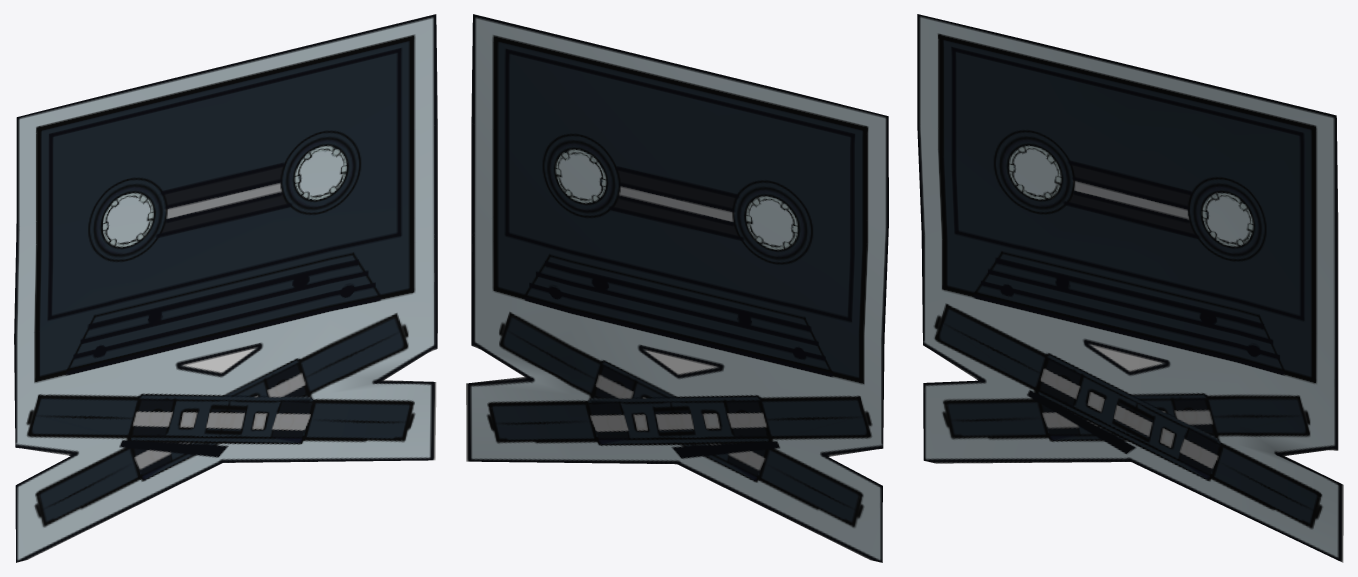
File: Me-Sticker.FBX
3 views of the same model, side by side, from view 1: azimuth 30°, elevation 25°; view 2: azimuth 150°, elevation 25°; view 3: azimuth 330°, elevation 25° (orthographic).
Parts seen in each view (by area): view 1: Plane003; view 2: Plane003; view 3: Plane003.
Boxes of the visible parts, x1,y1,x2,y2 form: Plane003: (14,14,437,562); Plane003: (466,14,888,562); Plane003: (917,14,1343,562).
Size of the model in its own units: 23.52 by 23.88 by 0.3549.
1 material, 1 textured.
